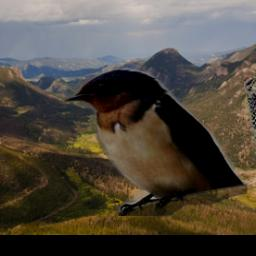Swallow: (61, 68, 246, 216)
Woodpecker: (243, 75, 256, 161)
